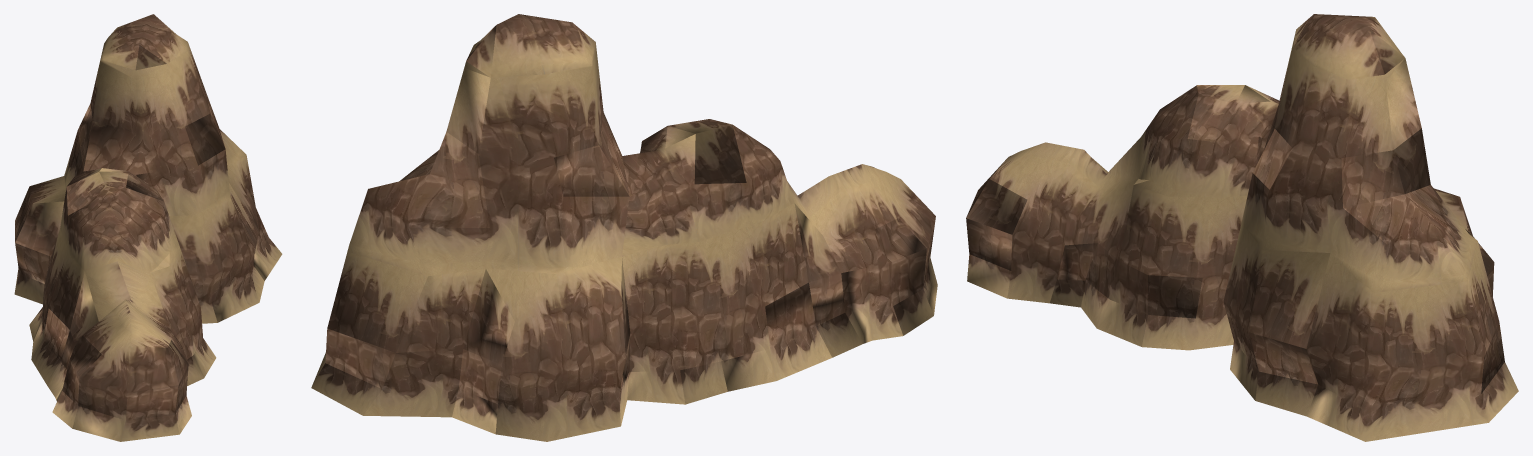
Rendered from FB5_dashati_1.FBX.
3 views of the same model, side by side, from view 1: azimuth 30°, elevation 25°; view 2: azimuth 150°, elevation 25°; view 3: azimuth 270°, elevation 25° (orthographic). The views are drawn at different scales.
Visible parts, largest first — view 1: FB5_dashati_1; view 2: FB5_dashati_1; view 3: FB5_dashati_1.
Part boxes in pixels (x1,y1,x2,y2): FB5_dashati_1: [14, 14, 282, 441]; FB5_dashati_1: [311, 14, 937, 441]; FB5_dashati_1: [966, 14, 1518, 441].
Bounding box in the file's own units: 17308 × 13330 × 19748.
1 material, 1 textured.
